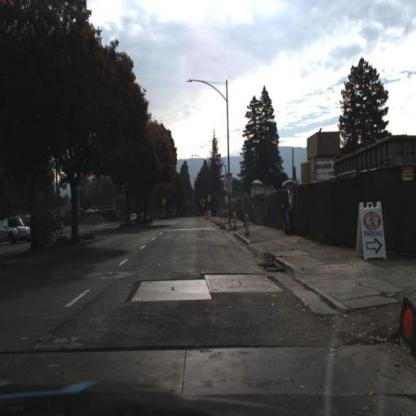car: (1, 215, 31, 243), (128, 211, 141, 222)
pedestrian: (50, 212, 59, 234)
